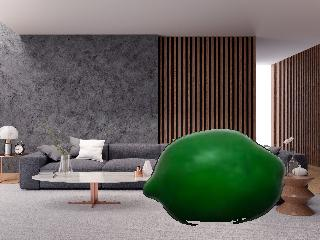lime: (141, 127, 290, 231)
